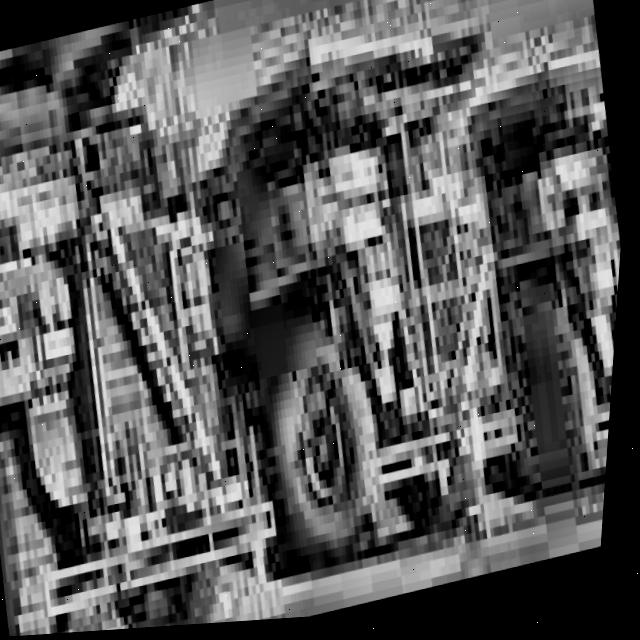dump_truck: (148, 0, 573, 589), (0, 0, 324, 640), (423, 0, 640, 518)
